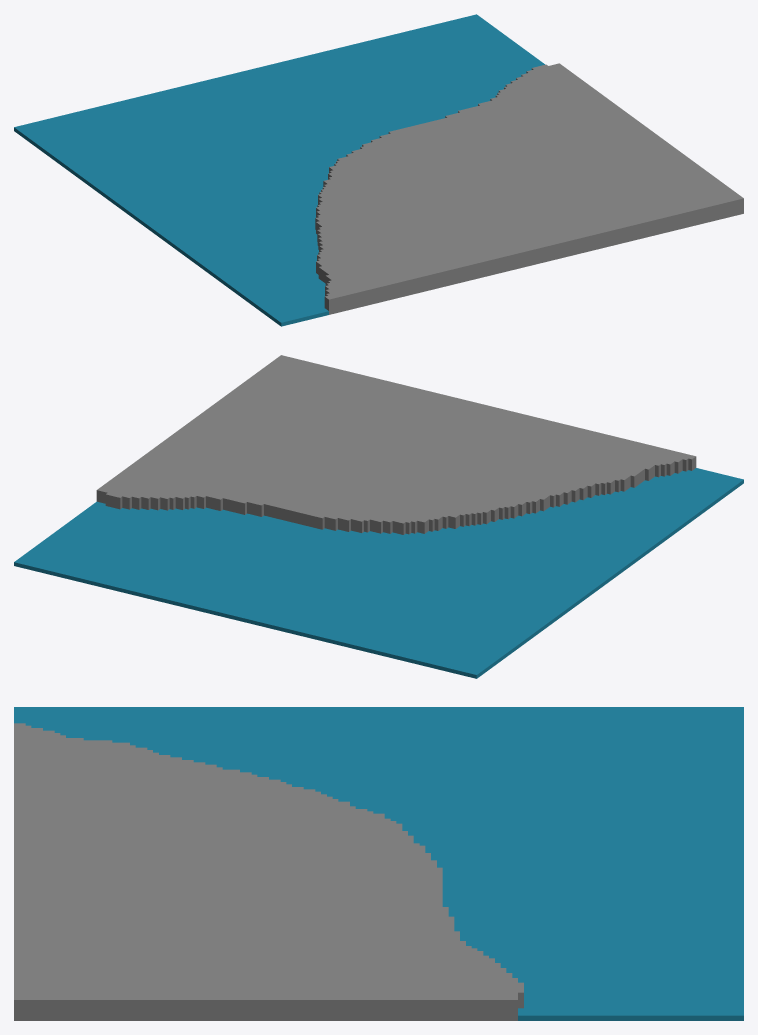
File: Light House-24.obj
3 renders of one model, top to bottom at view 1: azimuth 30°, elevation 25°; view 2: azimuth 150°, elevation 25°; view 3: azimuth 270°, elevation 25°, orthographic. The views are drawn at different scales.
Parts seen in each view (by area): view 1: Light House-24; view 2: Light House-24; view 3: Light House-24.
Part boxes in pixels (x1,y1,x2,y2): Light House-24: [14, 14, 743, 326]; Light House-24: [14, 355, 743, 678]; Light House-24: [14, 707, 743, 1020].
Size of the model in its own units: 126 by 4 by 126.
1 material, 1 textured.
